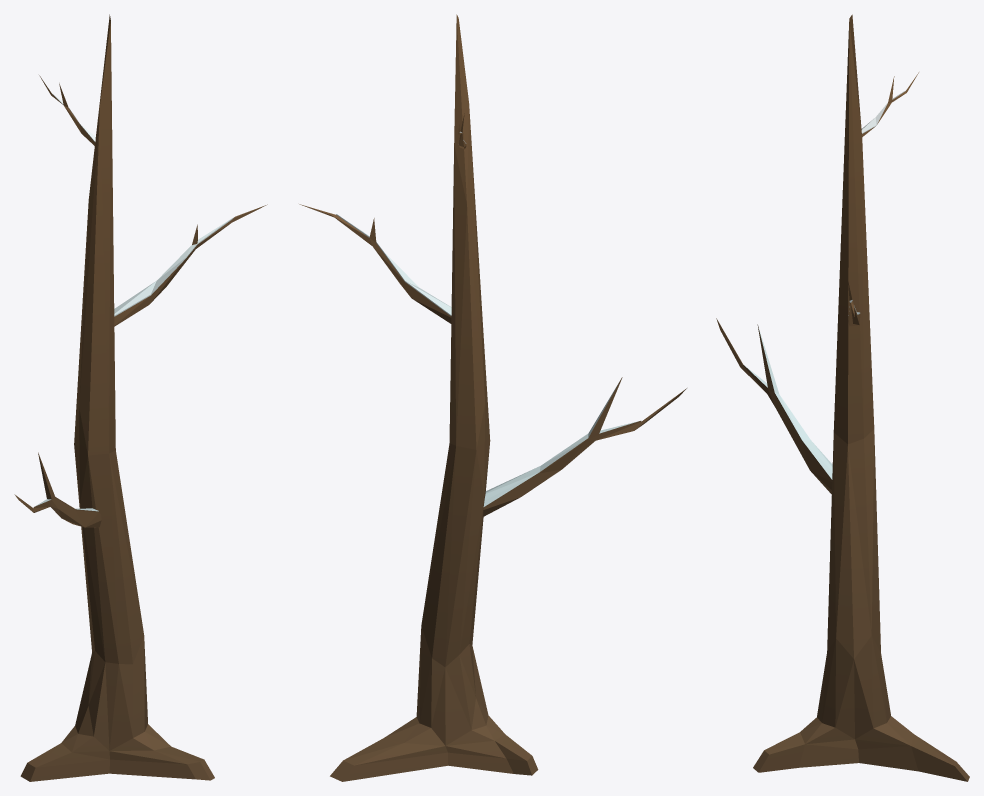
Rendered from Winter_Tree_12.glb.
The picture shows the model from 3 angles, left to right: view 1: azimuth 30°, elevation 25°; view 2: azimuth 150°, elevation 25°; view 3: azimuth 270°, elevation 25°; orthographic projection.
Visible parts, largest first — view 1: Winter_Tree_12_LOD0; view 2: Winter_Tree_12_LOD0; view 3: Winter_Tree_12_LOD0.
Boxes of the visible parts, <box> form: Winter_Tree_12_LOD0: <box>14,14,267,781</box>; Winter_Tree_12_LOD0: <box>299,14,686,781</box>; Winter_Tree_12_LOD0: <box>716,14,969,781</box>.
Size of what is drawn, in the model's own units: 3.26 by 7.16 by 2.24.
Materials: 1 (1 with a texture image).
